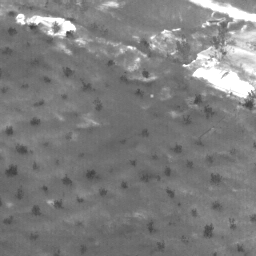Target: (149, 93, 155, 99)
